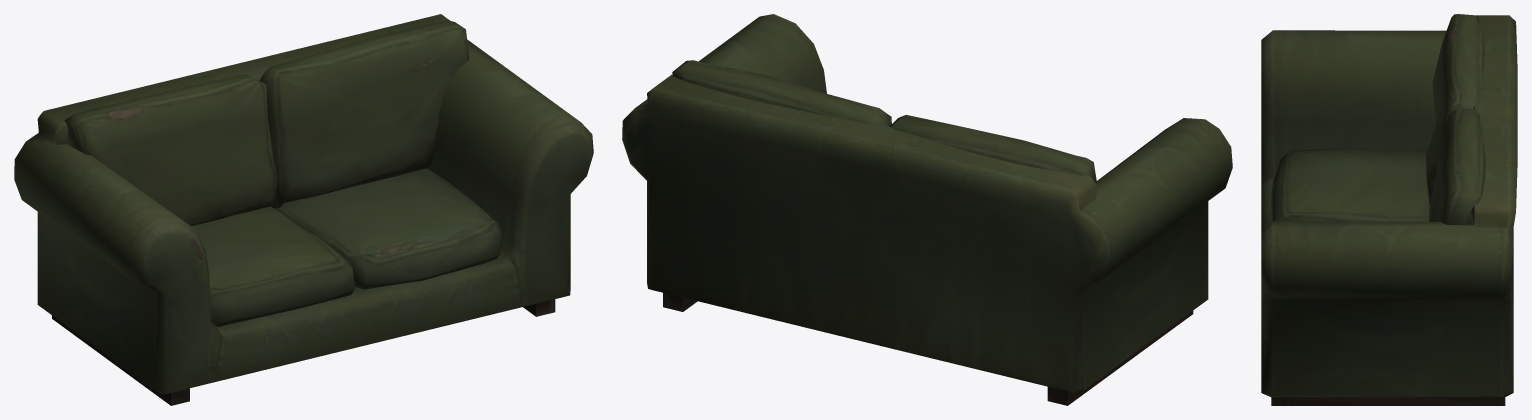
Rendered from Sofa.FBX.
3 views of the same model, side by side, from view 1: azimuth 30°, elevation 25°; view 2: azimuth 150°, elevation 25°; view 3: azimuth 270°, elevation 25° (orthographic). The views are drawn at different scales.
Parts seen in each view (by area): view 1: Sofa; view 2: Sofa; view 3: Sofa.
Part boxes in pixels (x1=…): Sofa: x1=14, y1=14, x2=593, y2=405; Sofa: x1=622, y1=14, x2=1232, y2=405; Sofa: x1=1261, y1=14, x2=1517, y2=405.
Bounding box in the file's own units: 2.06 × 0.935 × 1.01.
1 material, 1 textured.
